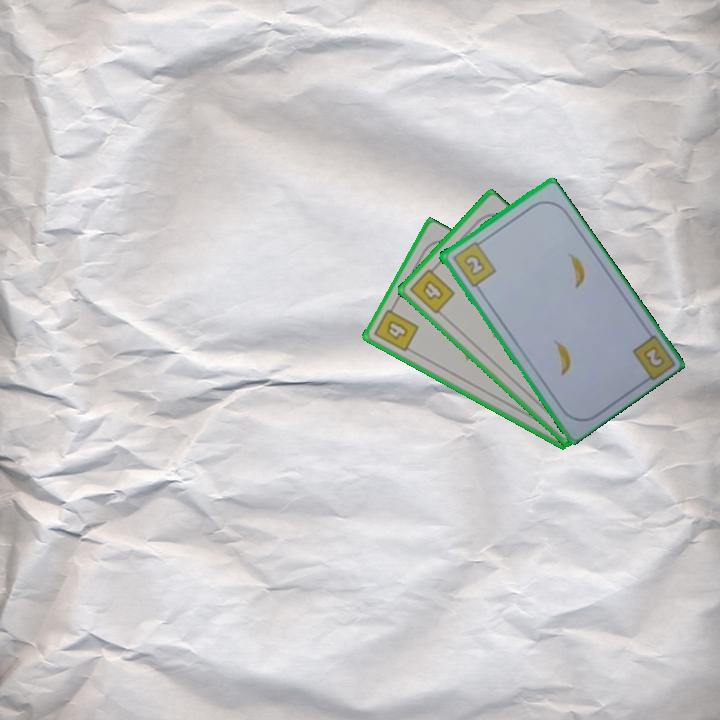2b: (448, 236, 499, 290), (639, 342, 669, 371)
4b: (406, 262, 458, 317), (370, 301, 422, 355)
